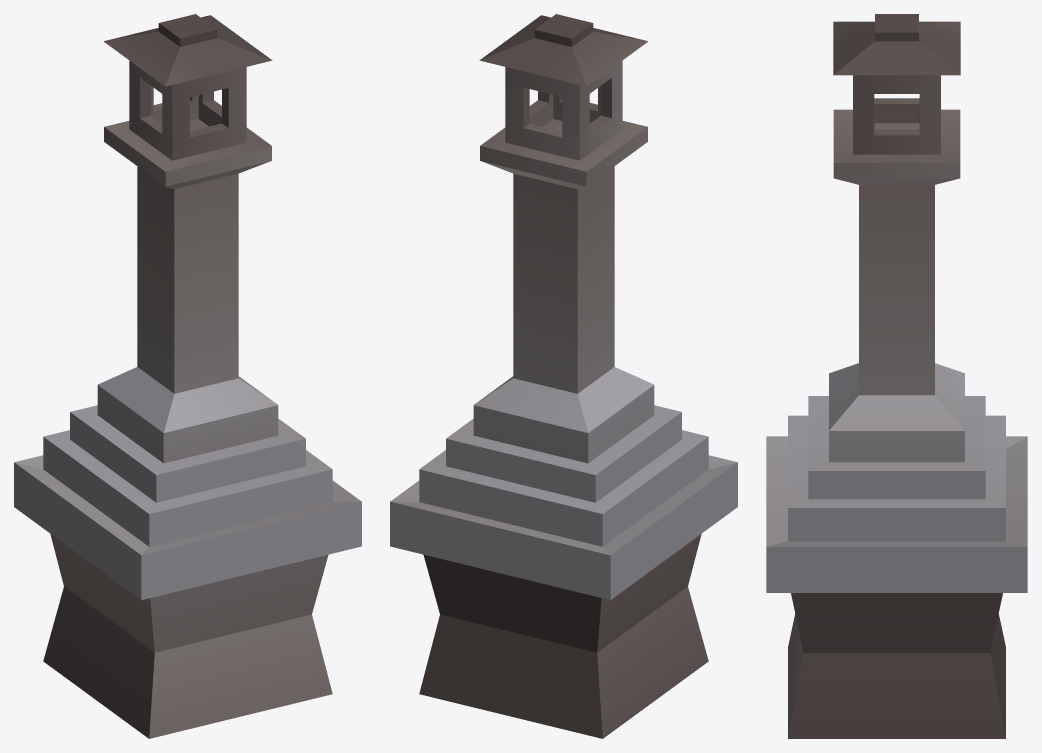
File: Tourou.fbx
The picture shows the model from 3 angles, left to right: view 1: azimuth 30°, elevation 25°; view 2: azimuth 150°, elevation 25°; view 3: azimuth 270°, elevation 25°; orthographic projection. The views are drawn at different scales.
Parts seen in each view (by area): view 1: Tourou; view 2: Tourou; view 3: Tourou.
Part boxes in pixels (box(x1,y1,x2,y2)): Tourou: box(14, 14, 361, 738); Tourou: box(390, 14, 737, 738); Tourou: box(766, 14, 1027, 738).
Size of the model in its own units: 122 by 344 by 122.
